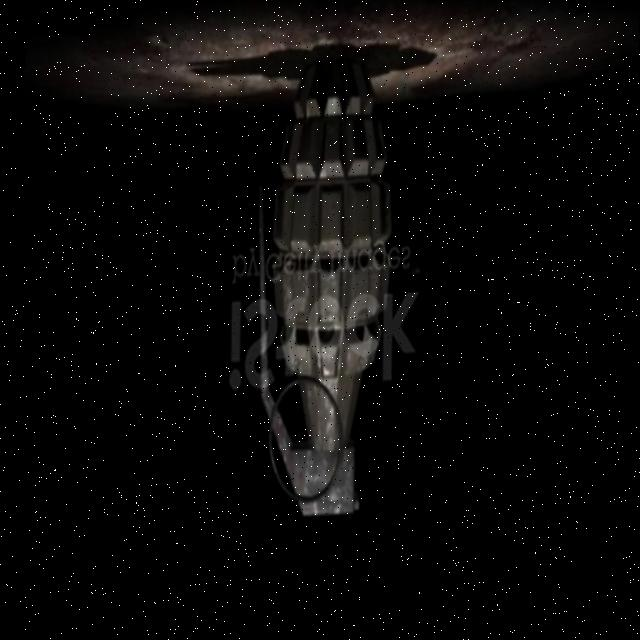grenade: (204, 32, 449, 557)
